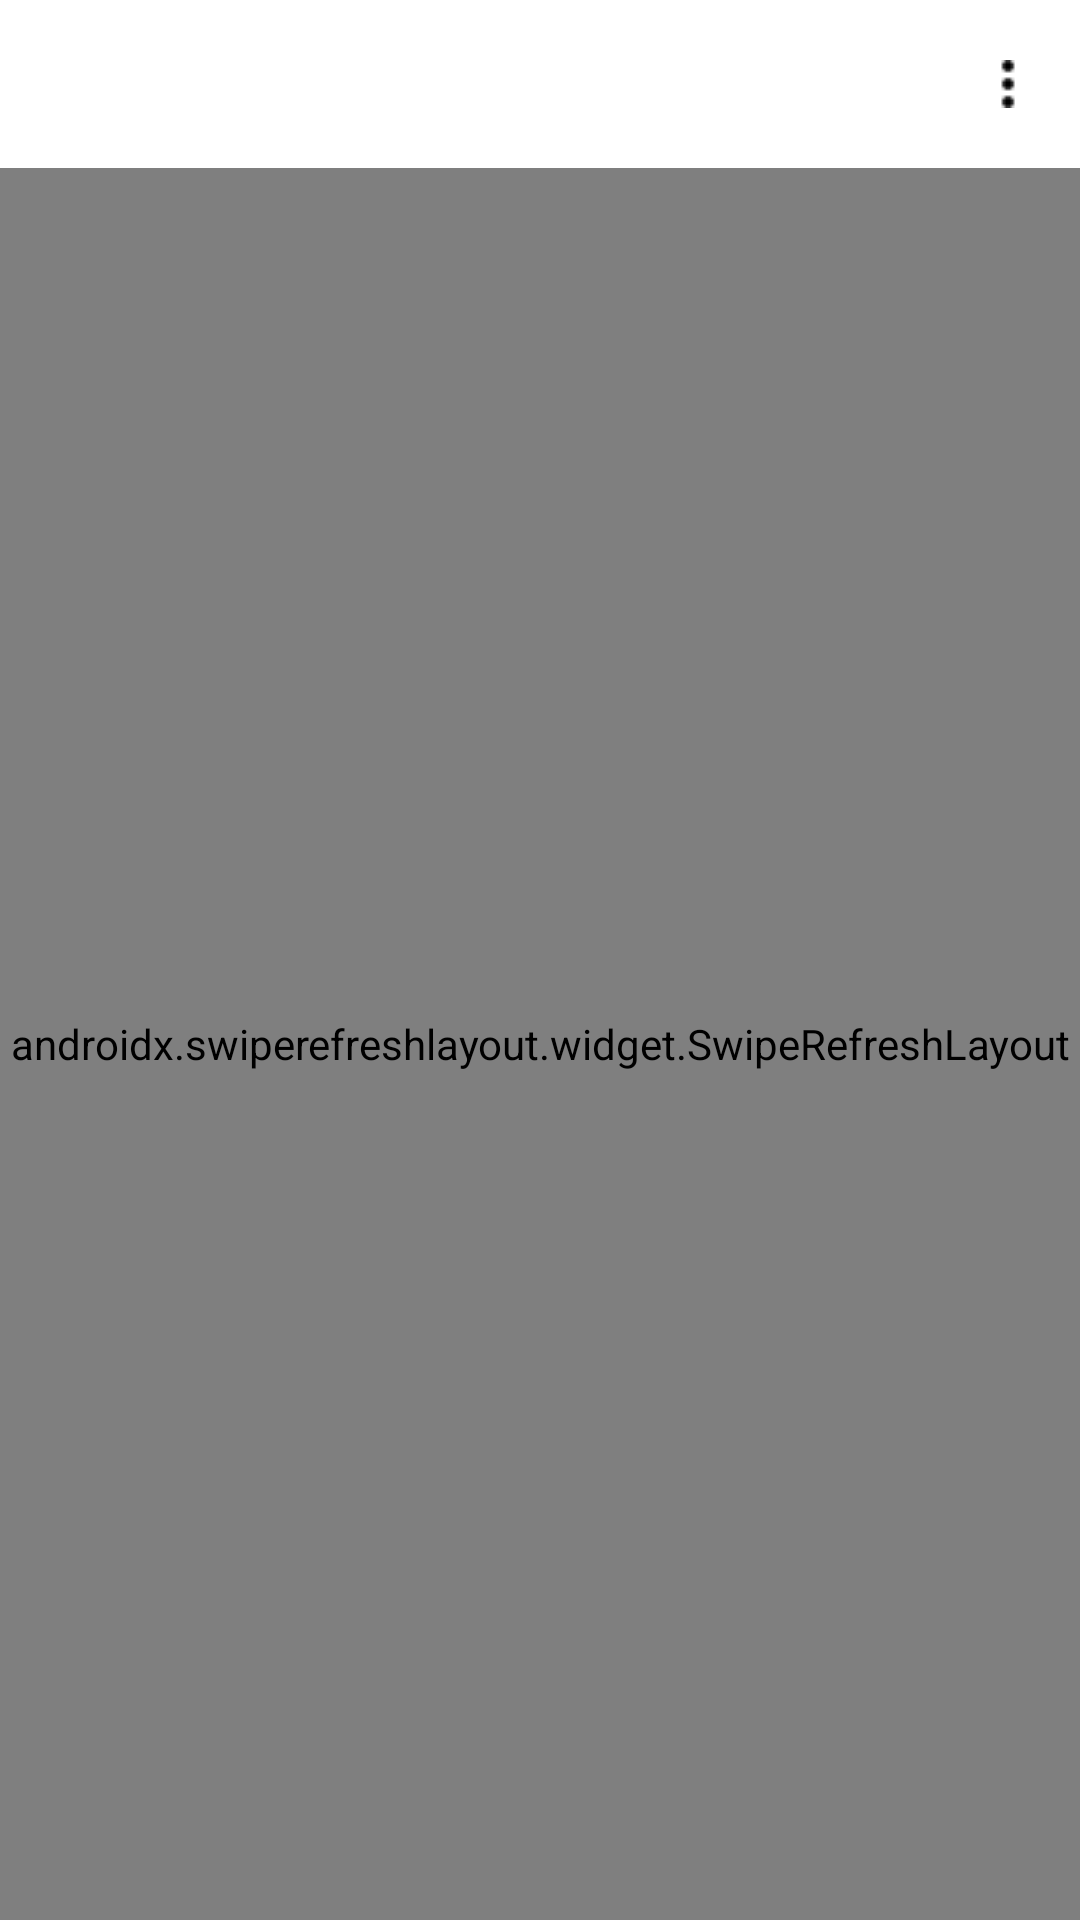

Icon bounding boxes for this 1080 x 1920 phone screenshot, format box=[x1, y1, x2, y2]:
more: box=[1001, 60, 1015, 108]
